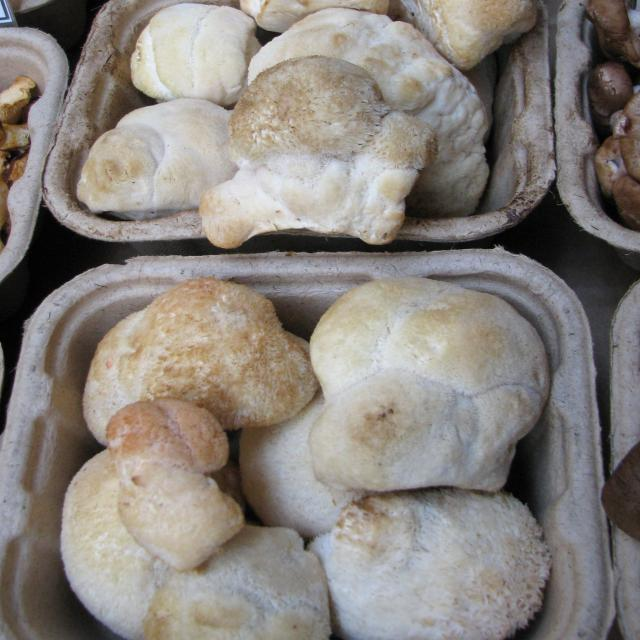Hericium erinaceus: (0, 52, 273, 269), (173, 263, 419, 465), (227, 69, 424, 266), (0, 269, 173, 466), (468, 169, 640, 367), (506, 65, 637, 201)
